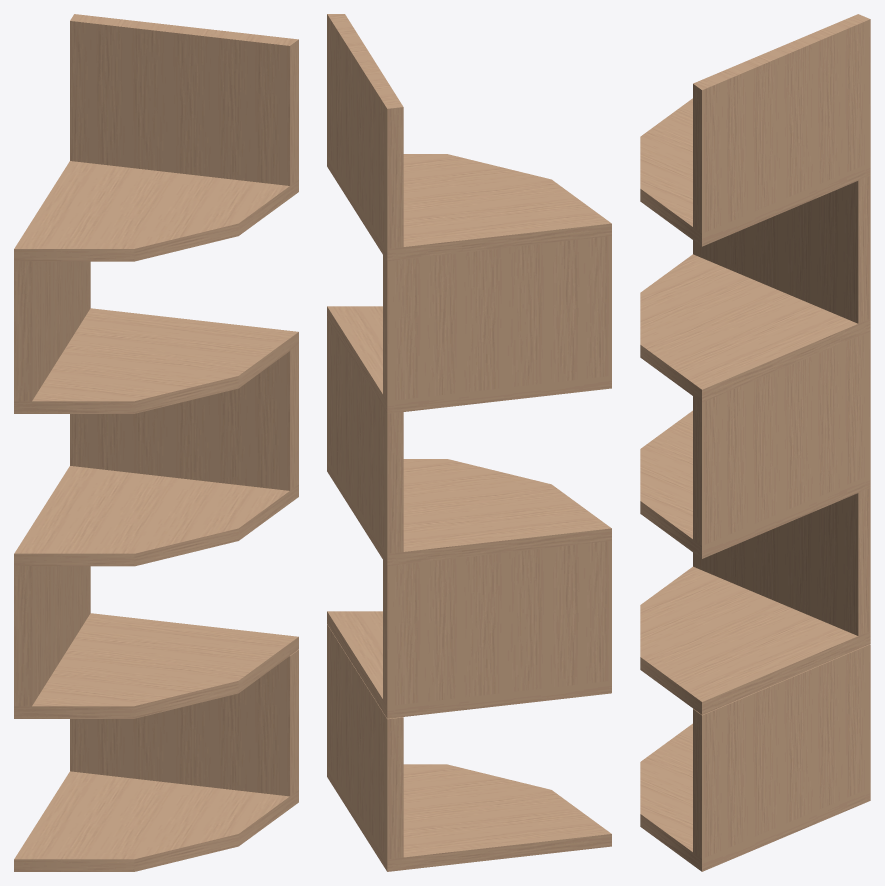
File: Corner_Shelving_05.FBX
3 views of the same model, side by side, from view 1: azimuth 30°, elevation 25°; view 2: azimuth 150°, elevation 25°; view 3: azimuth 270°, elevation 25° (orthographic). The views are drawn at different scales.
Parts seen in each view (by area): view 1: Corner_Shelving; view 2: Corner_Shelving; view 3: Corner_Shelving.
Boxes of the visible parts, x1,y1,x2,y2 form: Corner_Shelving: (14,14,298,871); Corner_Shelving: (327,14,611,871); Corner_Shelving: (640,14,870,871).
Bounding box in the file's own units: 141 × 362 × 96.59.
